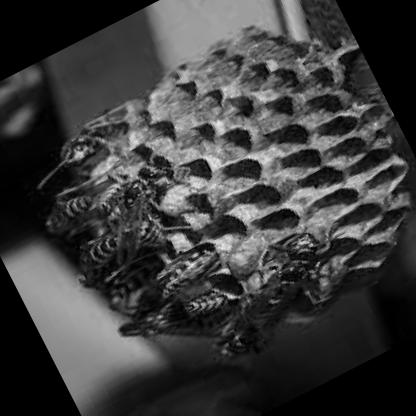other: (145, 236, 232, 303)
